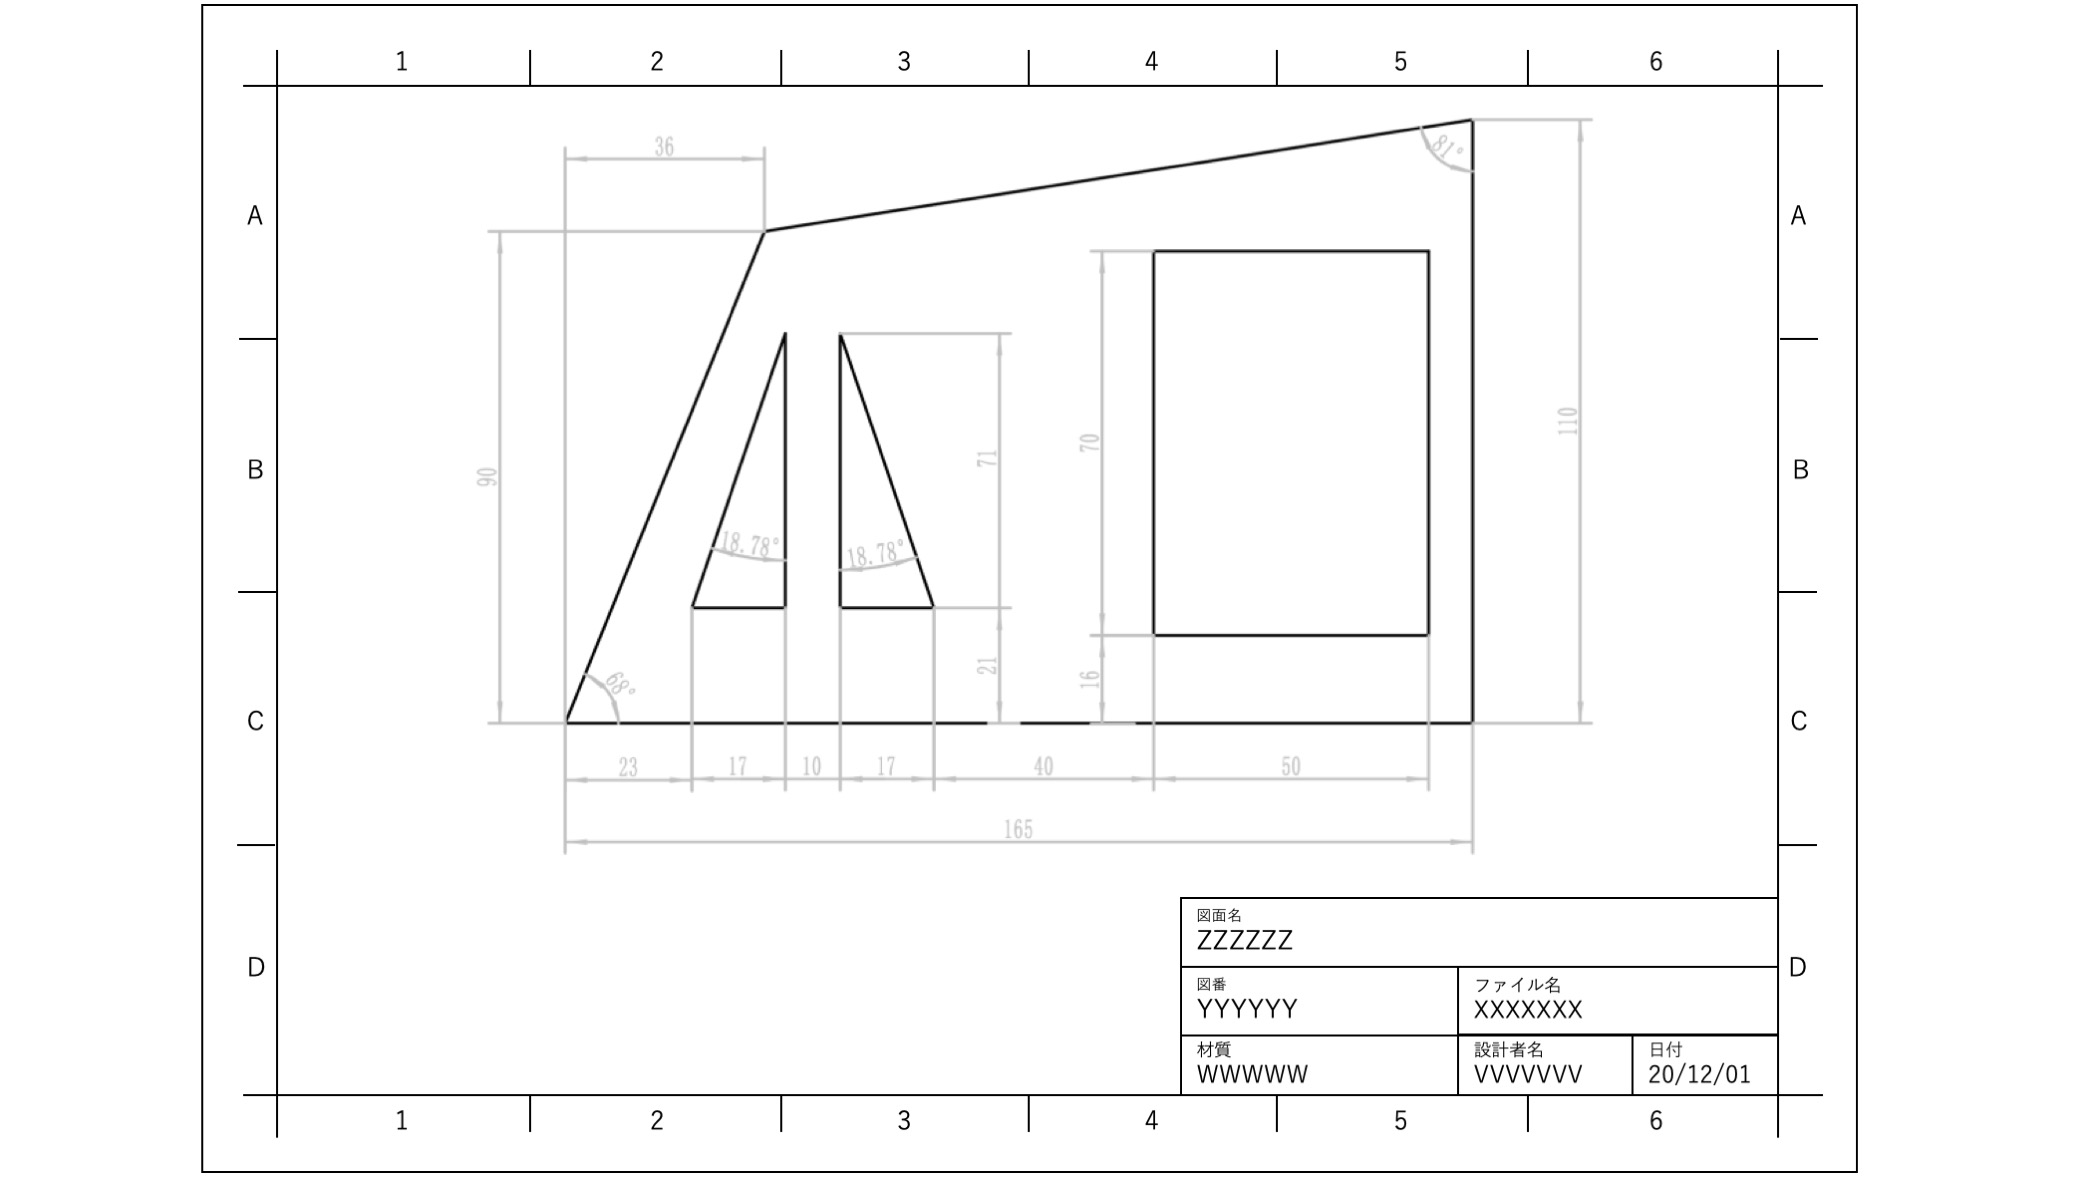rectangle: (1142, 236, 1439, 647)
triangle: (826, 324, 940, 616), (689, 324, 789, 619)
